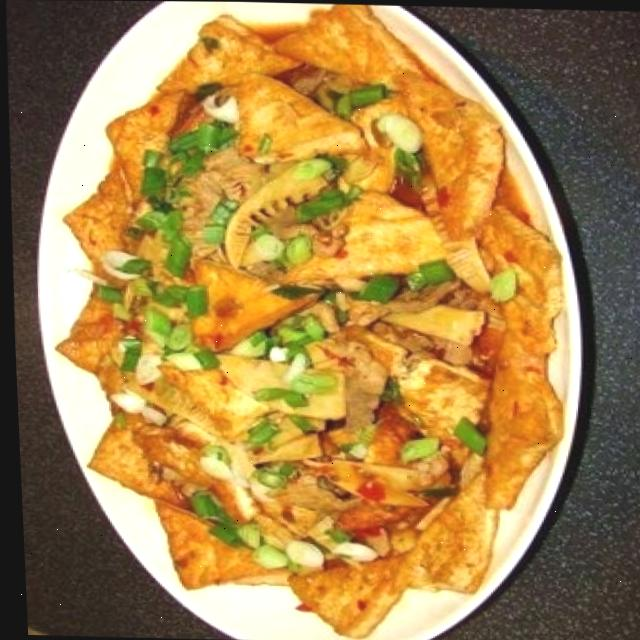豆腐料理: (5, 0, 588, 640)
